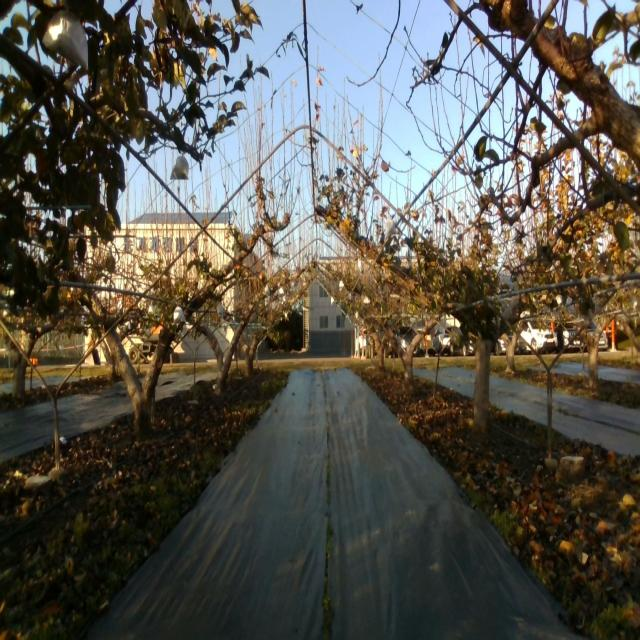pearbags: (41, 8, 89, 72), (170, 155, 190, 180), (384, 214, 397, 240), (173, 306, 187, 325)
